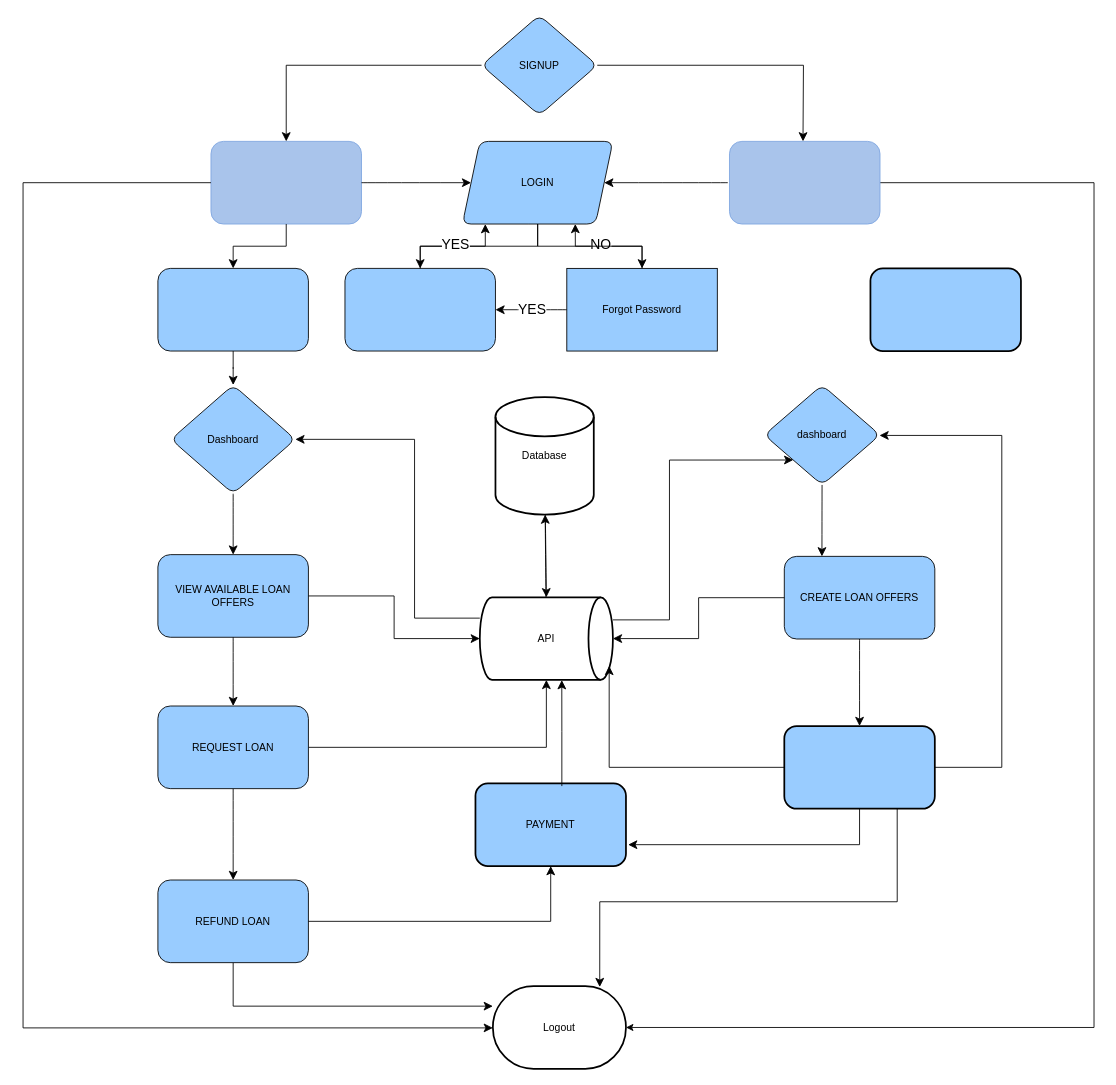
The diagram is 1116 pixels wide and 1085 high, and some of its shapes have lost their labels. Here are the shapes that lost their labels. From the top down, the centre of each, then its label:
At point 285,182: "BORROWER".
At point 804,182: "LENDER".
At point 232,309: "PROFILE SETUP".
At point 419,309: "EMAIL VERIFICATION".
At point 945,309: "DOCUMENTATION".
At point 859,767: "APPROVE LOAN".
